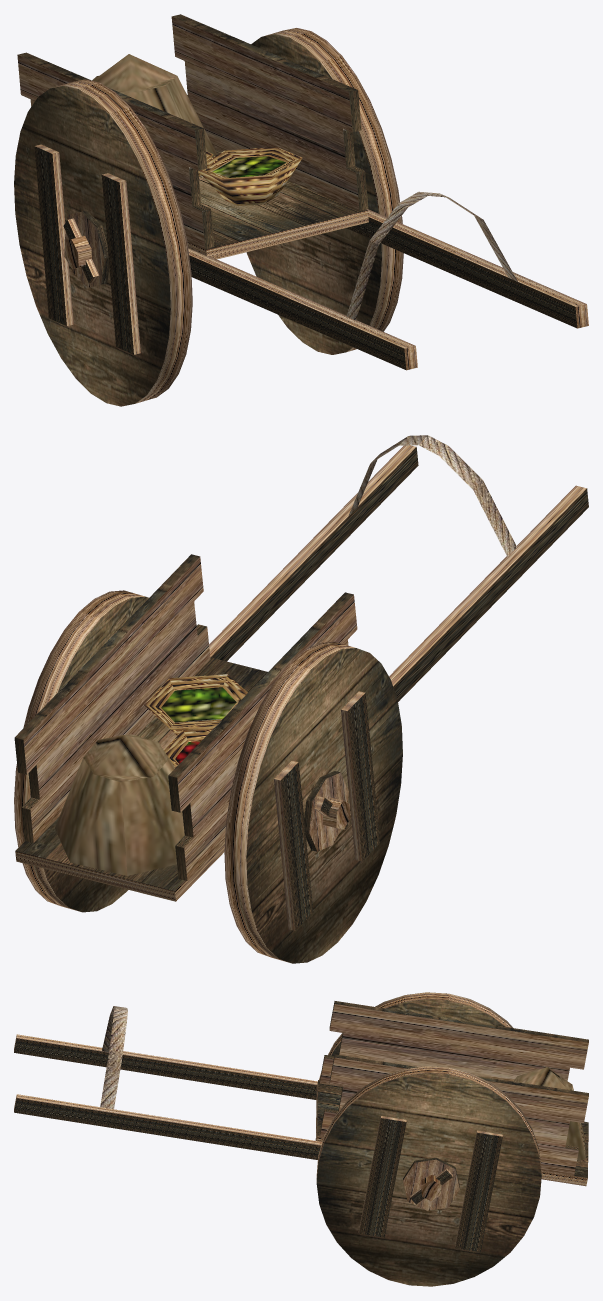
Rendered from lusi_mer_car.dae.
The picture shows the model from 3 angles, top to bottom: view 1: azimuth 30°, elevation 25°; view 2: azimuth 150°, elevation 25°; view 3: azimuth 270°, elevation 25°; orthographic projection. The views are drawn at different scales.
Visible parts, largest first — view 1: carroça; view 2: carroça; view 3: carroça.
Boxes of the visible parts, <box> form: carroça: <box>14,14,588,406</box>; carroça: <box>14,435,588,963</box>; carroça: <box>14,992,588,1286</box>.
Bounding box in the file's own units: 2.83 × 7.15 × 3.26.
